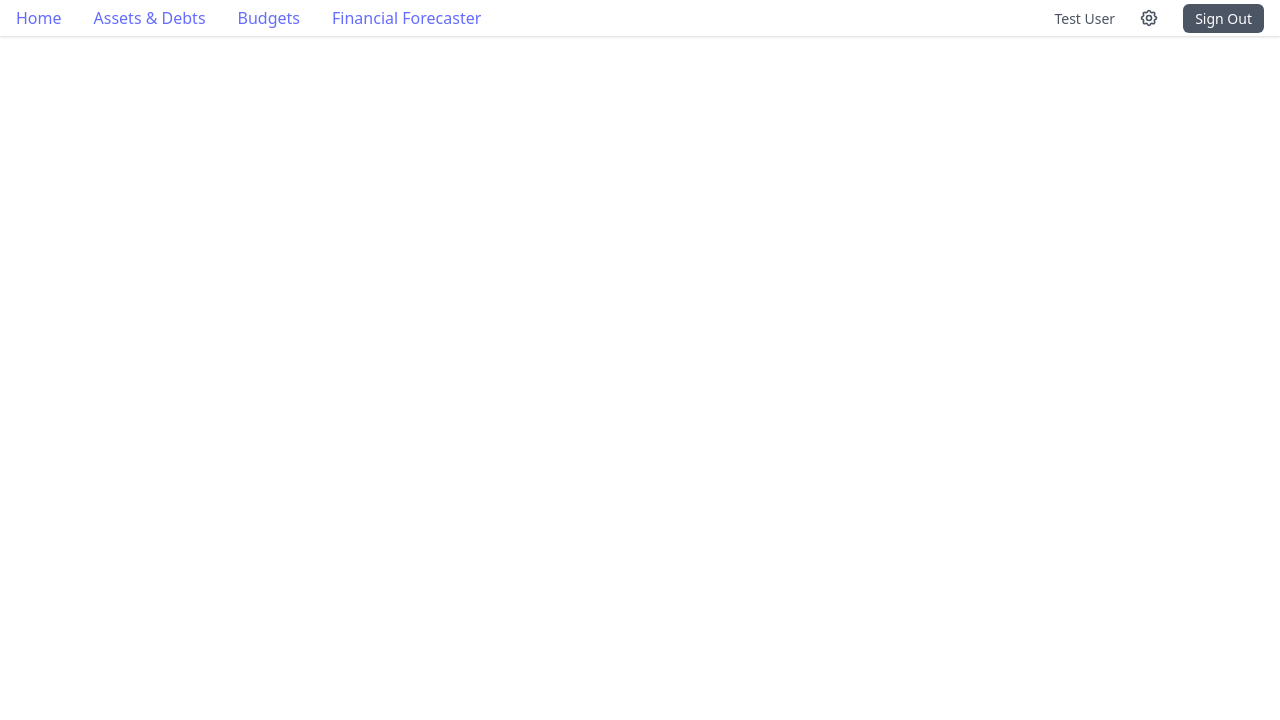
Test case: Nav Component › closes settings modal when cancel is clicked
// Open modal
What coordinates should you click on to do the following:
click the button titled "Settings"
I would click on:
 (1149, 18)
Its box is [1131,0,1167,36].
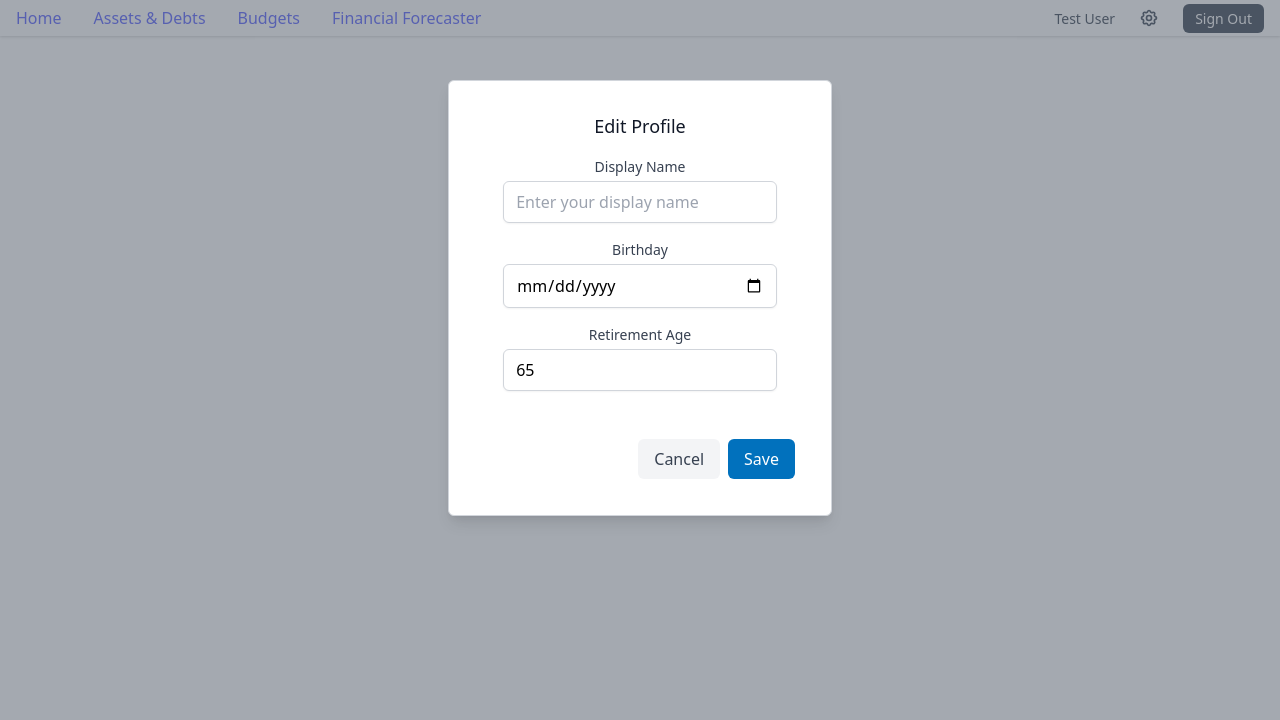
// Close modal
What coordinates should you click on to do the following:
click the button "Cancel"
I would click on:
 (679, 459)
Its box is [638,439,720,479].
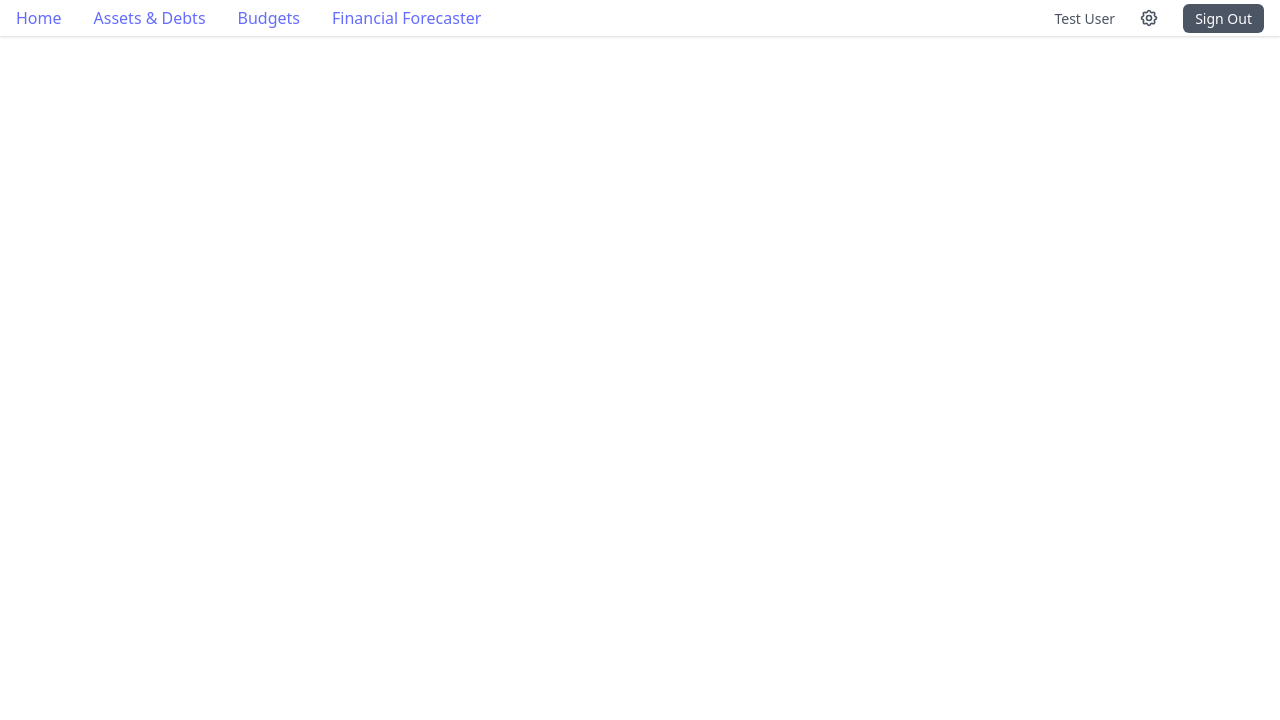
Check: the heading "Edit Profile" is gone
